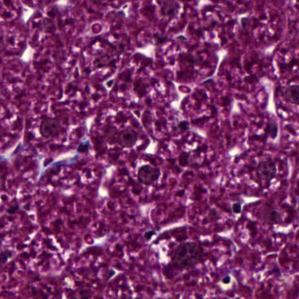inflammation: (149, 217, 202, 274), (245, 111, 284, 152), (130, 157, 167, 192)
